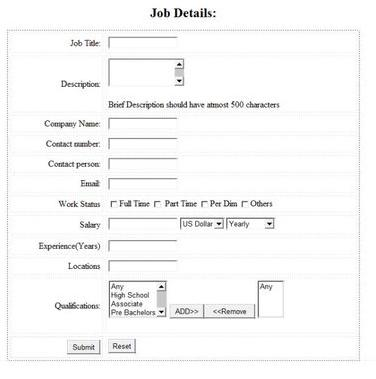button: (204, 303, 256, 320), (169, 303, 205, 320), (67, 339, 102, 356), (108, 338, 138, 354)
checkbox: (108, 198, 120, 210), (154, 198, 164, 209), (241, 200, 249, 210), (201, 200, 209, 209)
checkbox_with_label: (106, 196, 151, 211), (152, 196, 197, 211), (199, 197, 238, 211), (239, 197, 273, 211)
field: (106, 238, 178, 255), (107, 216, 180, 232), (107, 157, 179, 173), (106, 177, 182, 192), (106, 259, 181, 274), (106, 137, 180, 152), (107, 116, 180, 131), (106, 35, 178, 50), (226, 216, 277, 232), (180, 216, 225, 232)
field_with_label: (39, 236, 180, 257), (45, 115, 181, 132), (46, 136, 181, 153), (48, 156, 181, 173), (68, 257, 183, 275), (79, 175, 183, 193), (78, 215, 182, 233), (70, 34, 179, 51)
